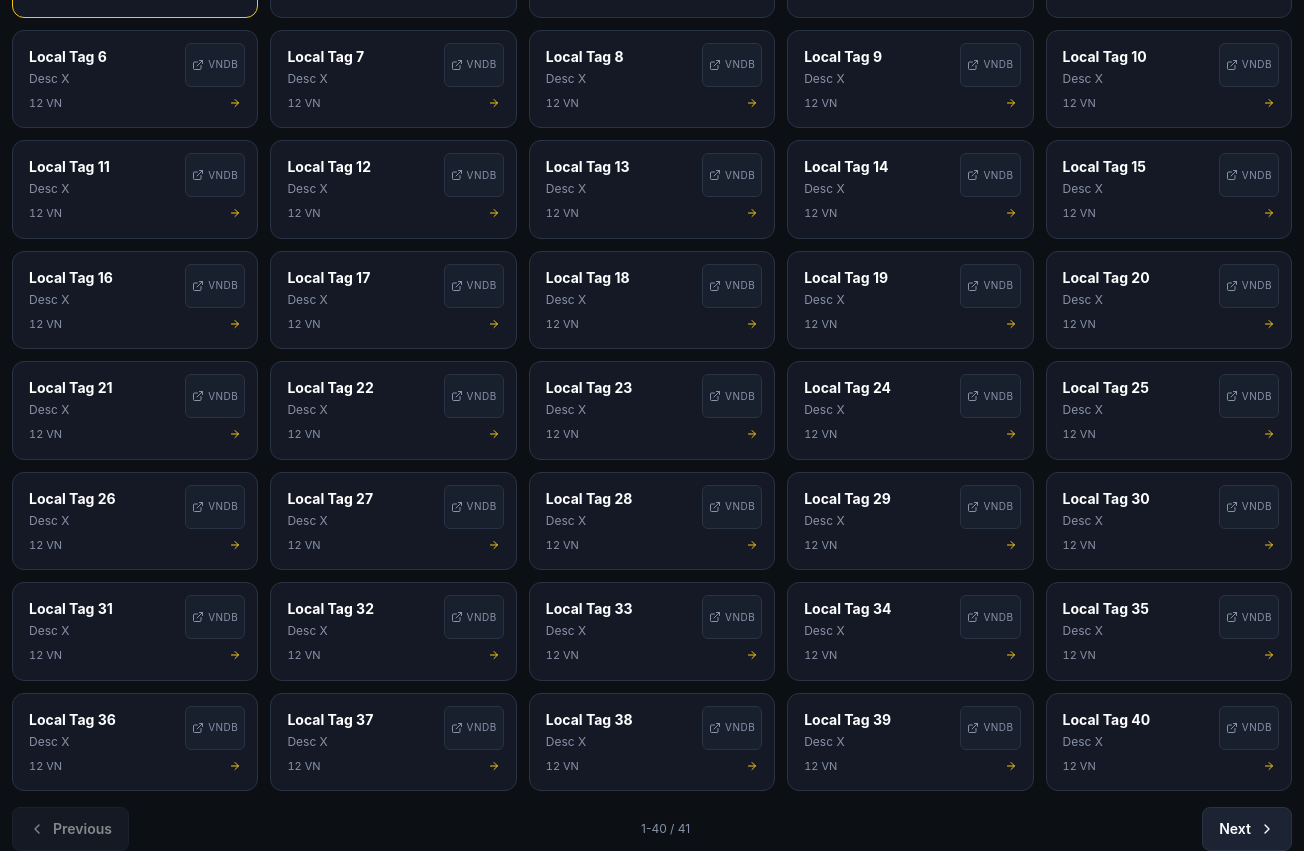
Test: TagsBrowser branches › paginates large local tag categories and reaches the remaining cards
The width and height of the screenshot is (1304, 851).
(page scrolled)
Expected: the heading "Local Tag 40" is shown, [1063, 710, 1150, 728]
Expected: the text "Local Tag 41" is not shown
Click the button "Next": click(1247, 829) [1202, 807, 1292, 850]
(page scrolled)
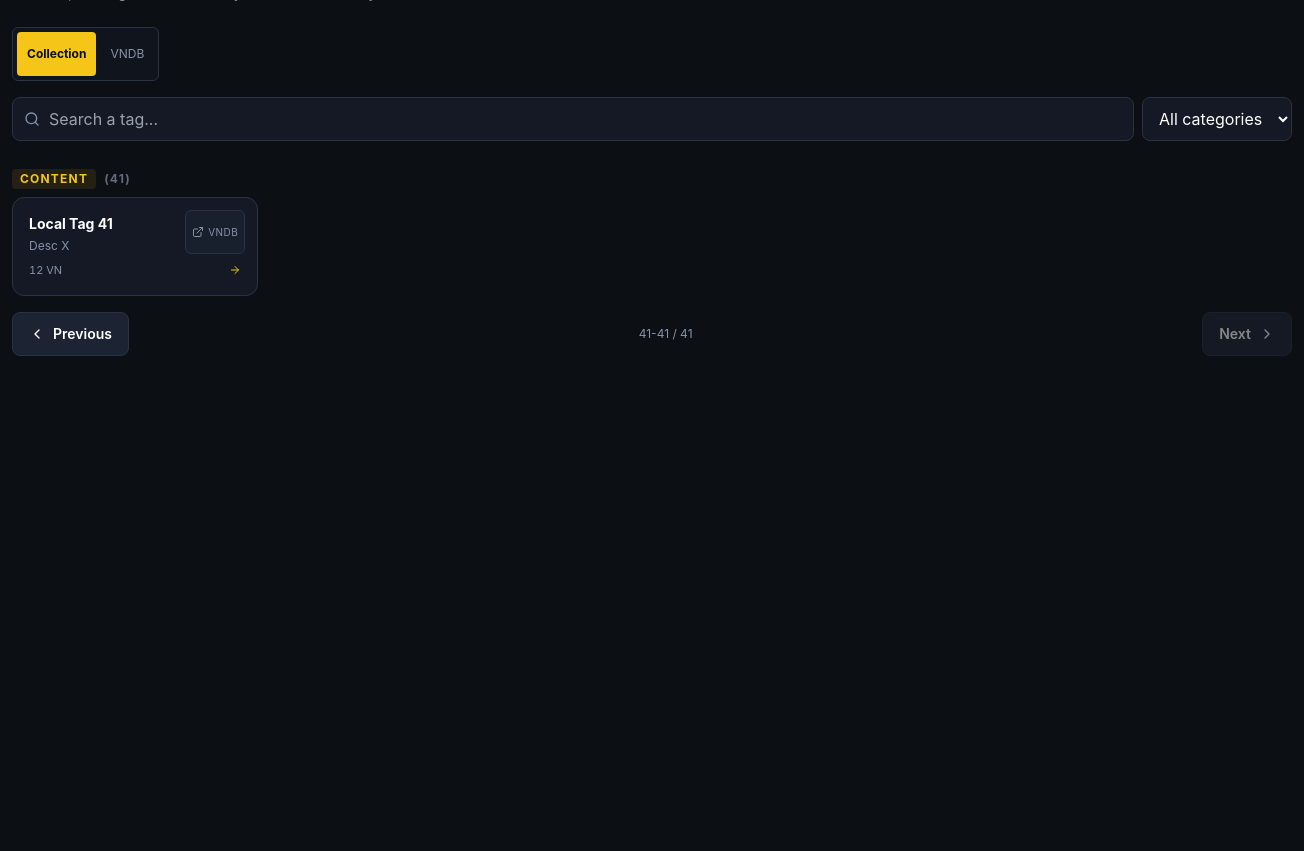
Now the heading "Local Tag 41" is shown, box [29, 215, 113, 232]
Now the navigation bar named "Tag pagination: Content" shows "41-41 / 41", box [12, 312, 1292, 356]
